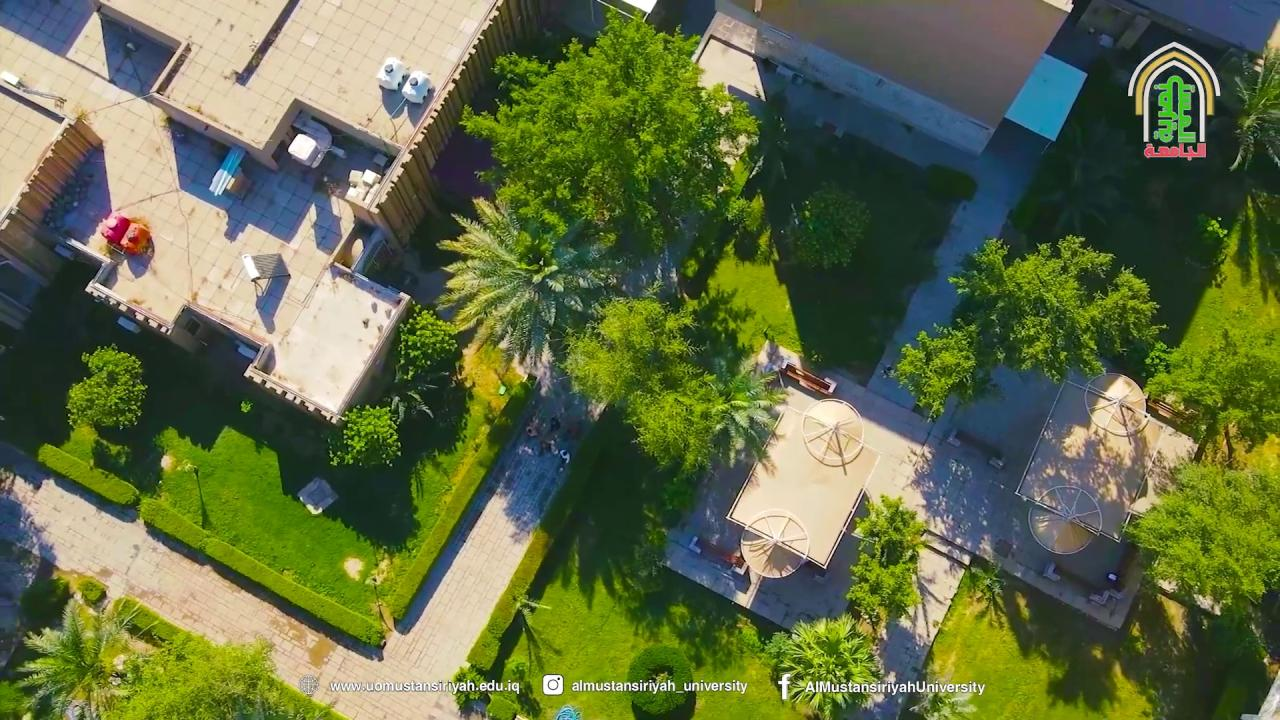tree: (436, 9, 797, 480), (457, 8, 764, 271), (882, 230, 1168, 426), (559, 284, 789, 480), (433, 195, 614, 368), (1120, 458, 1278, 626), (326, 300, 470, 470), (106, 628, 342, 718), (1198, 42, 1279, 304), (560, 278, 706, 419), (622, 360, 789, 479), (1142, 322, 1278, 467), (13, 593, 149, 719), (881, 316, 1000, 424), (765, 612, 884, 719), (844, 492, 928, 643), (1200, 187, 1278, 303), (786, 180, 870, 272), (64, 342, 147, 435), (1227, 42, 1279, 172), (736, 88, 791, 195), (851, 492, 927, 567), (393, 300, 459, 385), (626, 642, 696, 718), (325, 402, 403, 469), (509, 589, 551, 675), (964, 557, 1006, 616), (177, 459, 210, 529), (450, 661, 490, 717)
